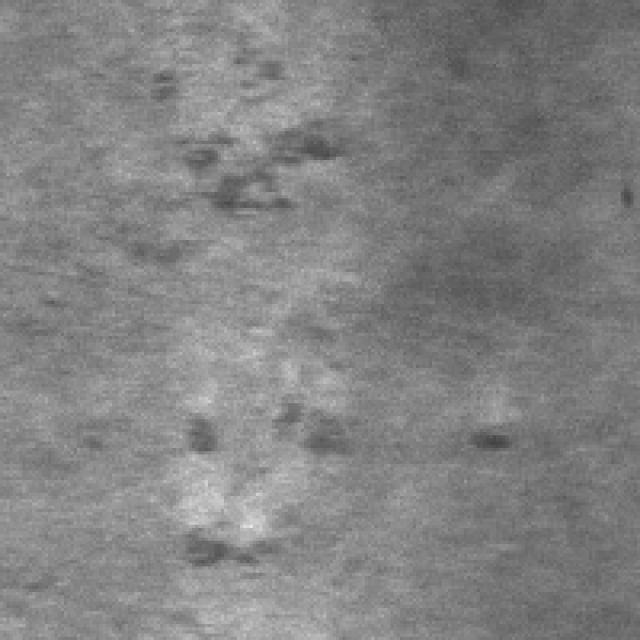rolled-in_scale: (170, 387, 380, 579), (157, 38, 365, 215)
